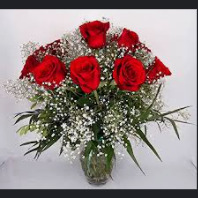RedRose: (70, 52, 105, 97), (113, 53, 149, 93), (33, 58, 68, 92), (75, 16, 110, 50)
